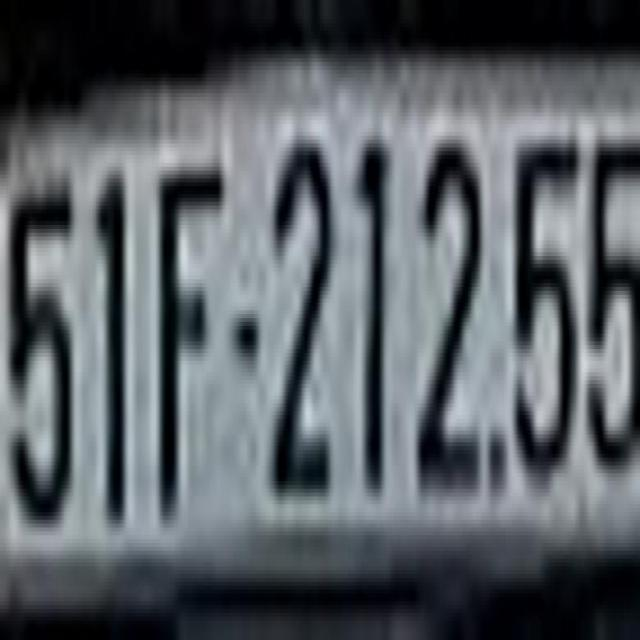1: (352, 112, 388, 512), (94, 159, 130, 543)
2: (270, 124, 336, 512), (415, 124, 482, 500)
5: (8, 166, 74, 558), (512, 124, 578, 484), (585, 124, 639, 473)
F: (156, 132, 224, 527)
